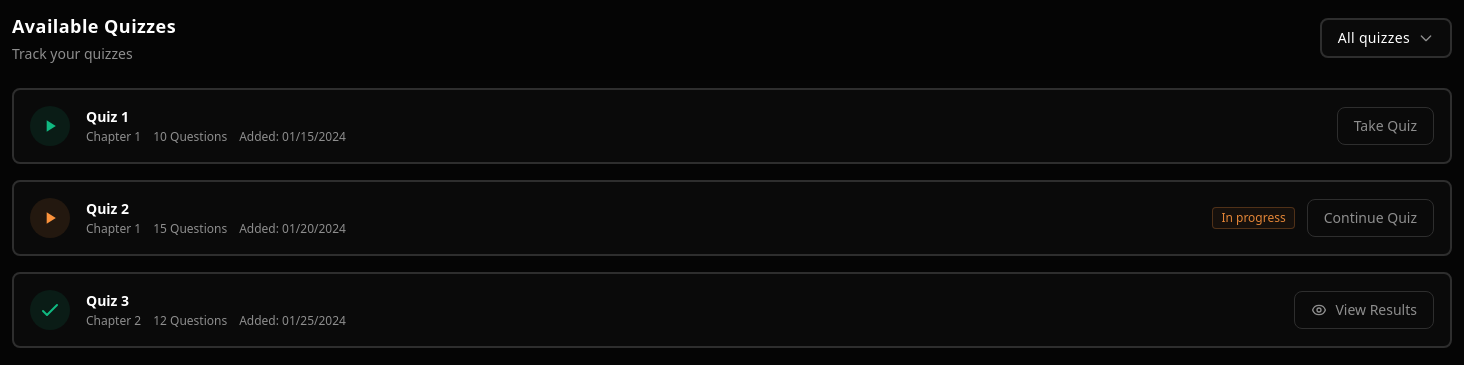
Scenario: StudentQuizList › View Mode Toggle › should open dropdown when clicking view mode button
The width and height of the screenshot is (1464, 365).
Expected: the heading "Quiz 1" is shown, x1=86 y1=107 x2=129 y2=126
Click the button with aria-label "View mode" at {"x": 1386, "y": 38}, box x1=1320 y1=18 x2=1452 y2=58
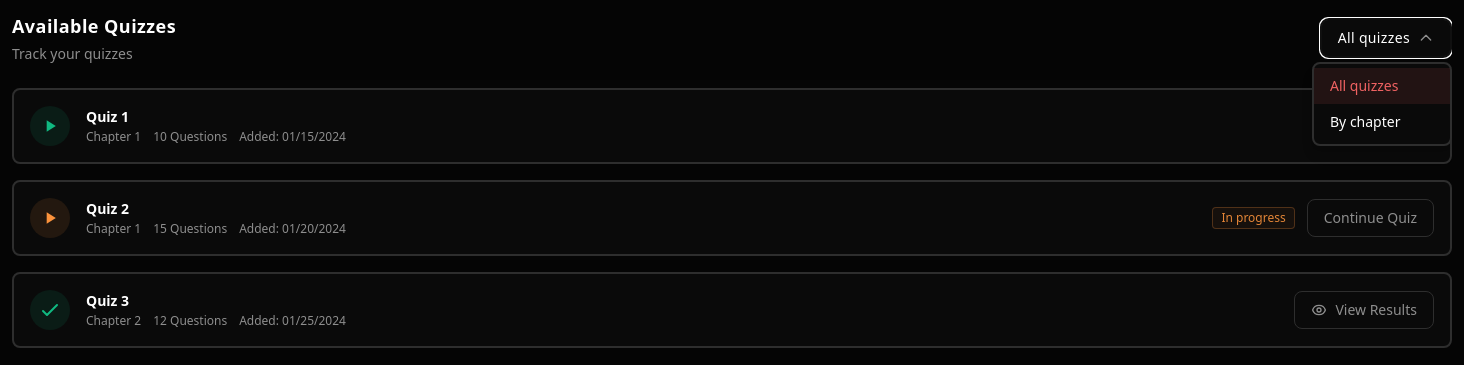
Expected: the button with aria-label "View mode" is expanded, x1=1320 y1=18 x2=1452 y2=58
Expected: the list is shown, x1=1312 y1=62 x2=1452 y2=146
